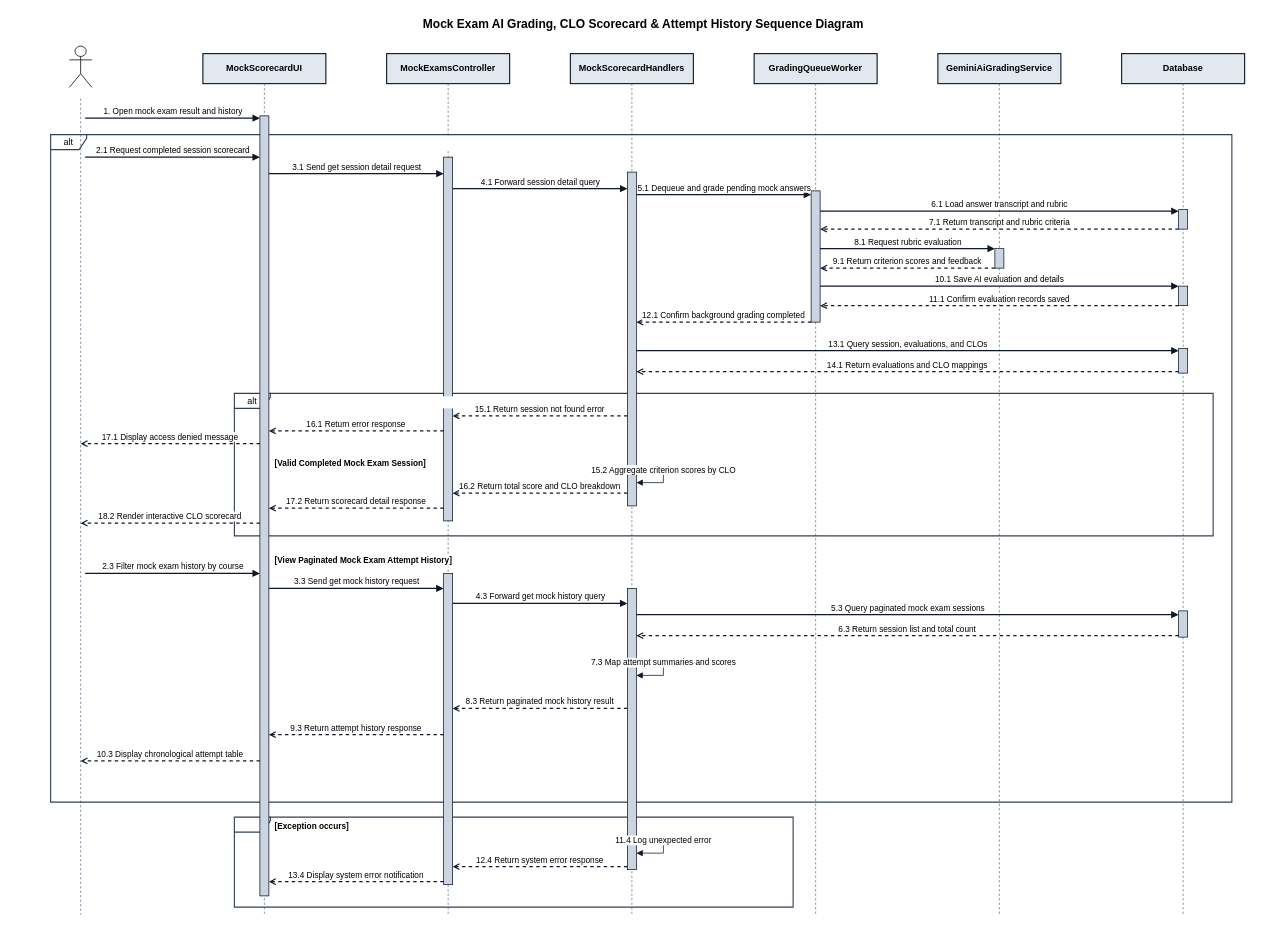
Some shapes in this 1286 by 929 pixel diagram are drawn without their labels. The shapes that lost their labels are listed below. From the top down, each one's box as (x1, y1, x2, y2) in pixels, then its label:
(69, 45, 92, 87): Student
(273, 137, 496, 149): [Background AI Grading and CLO Scorecard Retrieval]
(273, 396, 464, 408): [Session Not Found or Unauthorized Student]
(233, 816, 793, 907): opt
